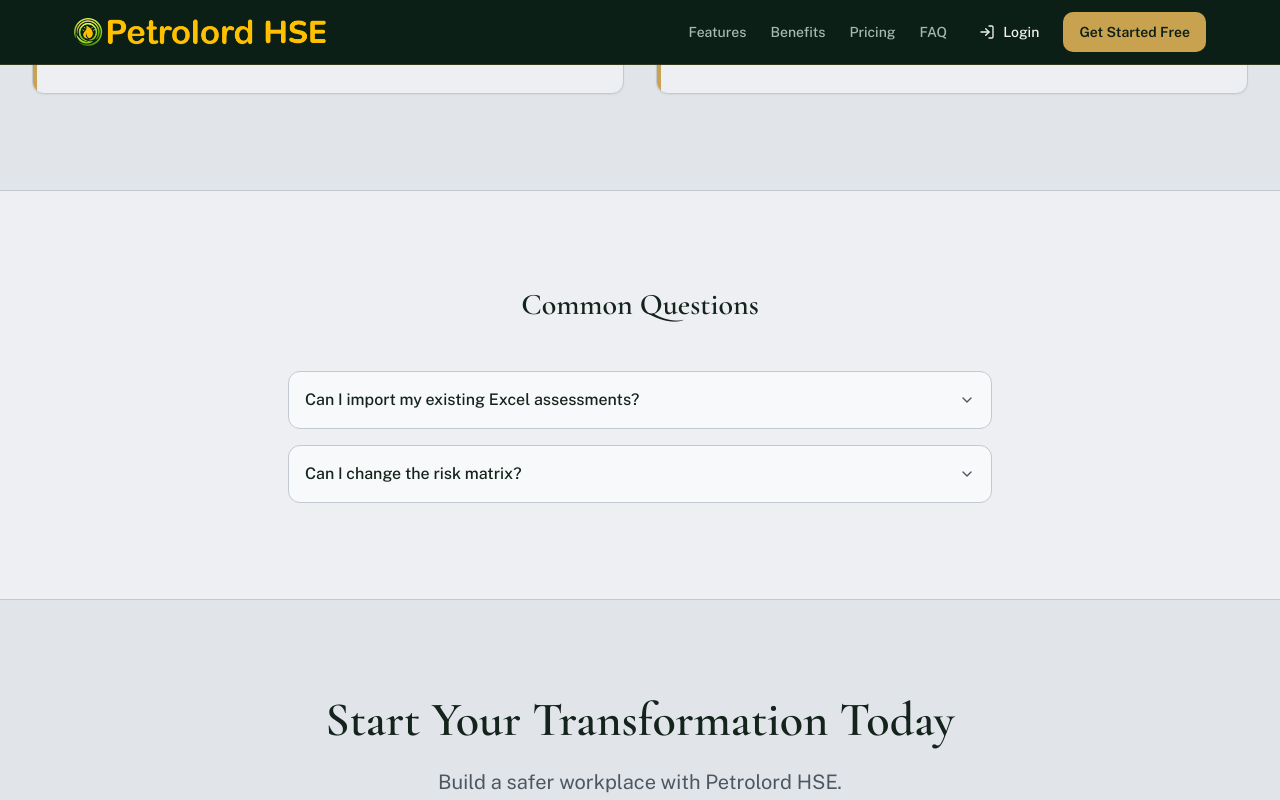
Test: further public states on the public frame › benefit page: the FAQ opens themed
(page scrolled)
Expected: the heading "Common Questions" is shown, [521,286,759,323]
Click the button "Can I import my existing Excel assessments?" at (640, 400), box [305,372,975,428]
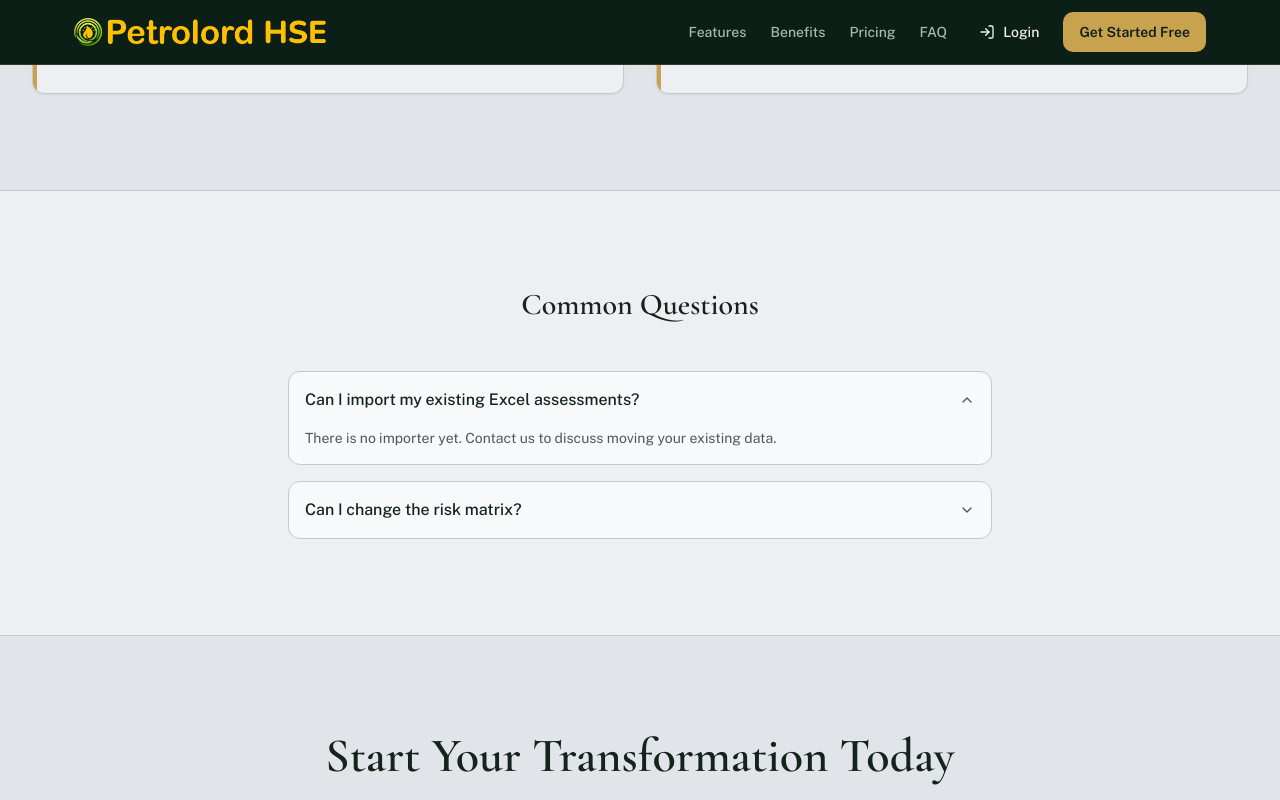
Expected: the text "There is no importer yet. Contact us to discuss moving your existing data." is shown, [305,430,776,446]
